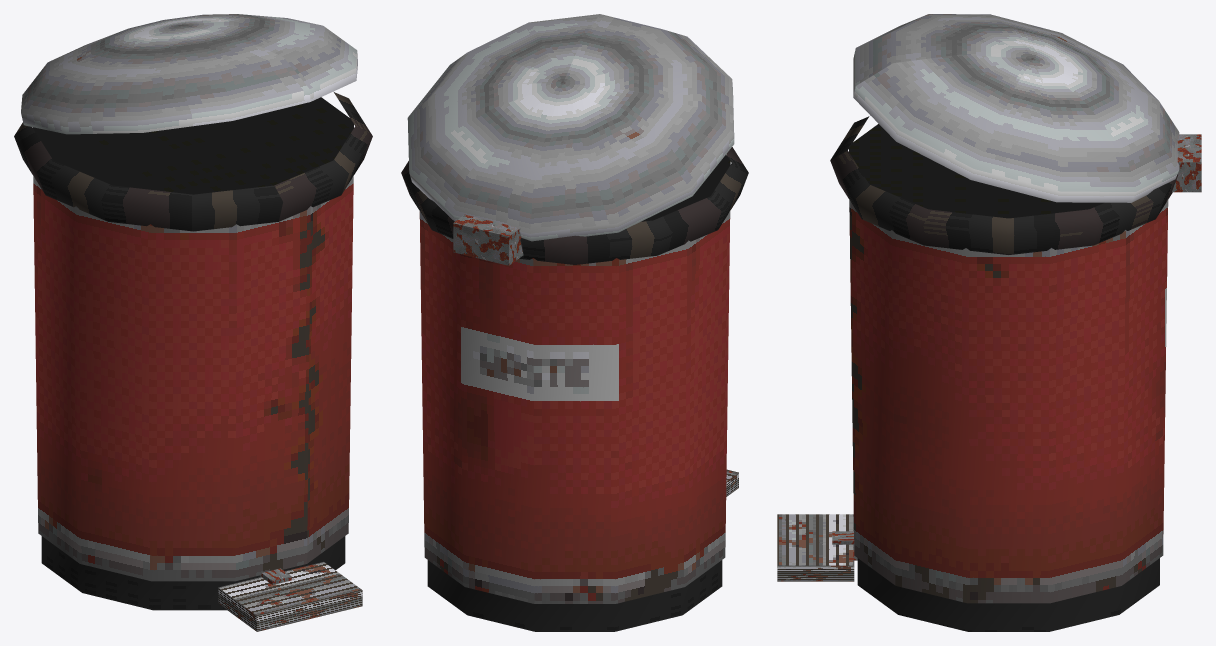
The model's file is trash_can_pedal.glb.
3 views of the same model, side by side, from view 1: azimuth 30°, elevation 25°; view 2: azimuth 150°, elevation 25°; view 3: azimuth 270°, elevation 25° (orthographic). The views are drawn at different scales.
Visible parts, largest first — view 1: trash_can_pedal; view 2: trash_can_pedal; view 3: trash_can_pedal.
Part boxes in pixels (x1,y1,x2,y2): trash_can_pedal: (14, 14, 372, 631); trash_can_pedal: (401, 14, 748, 631); trash_can_pedal: (777, 14, 1201, 631).
Bounding box in the file's own units: 0.324 × 0.5223 × 0.385.
1 material, 1 textured.
